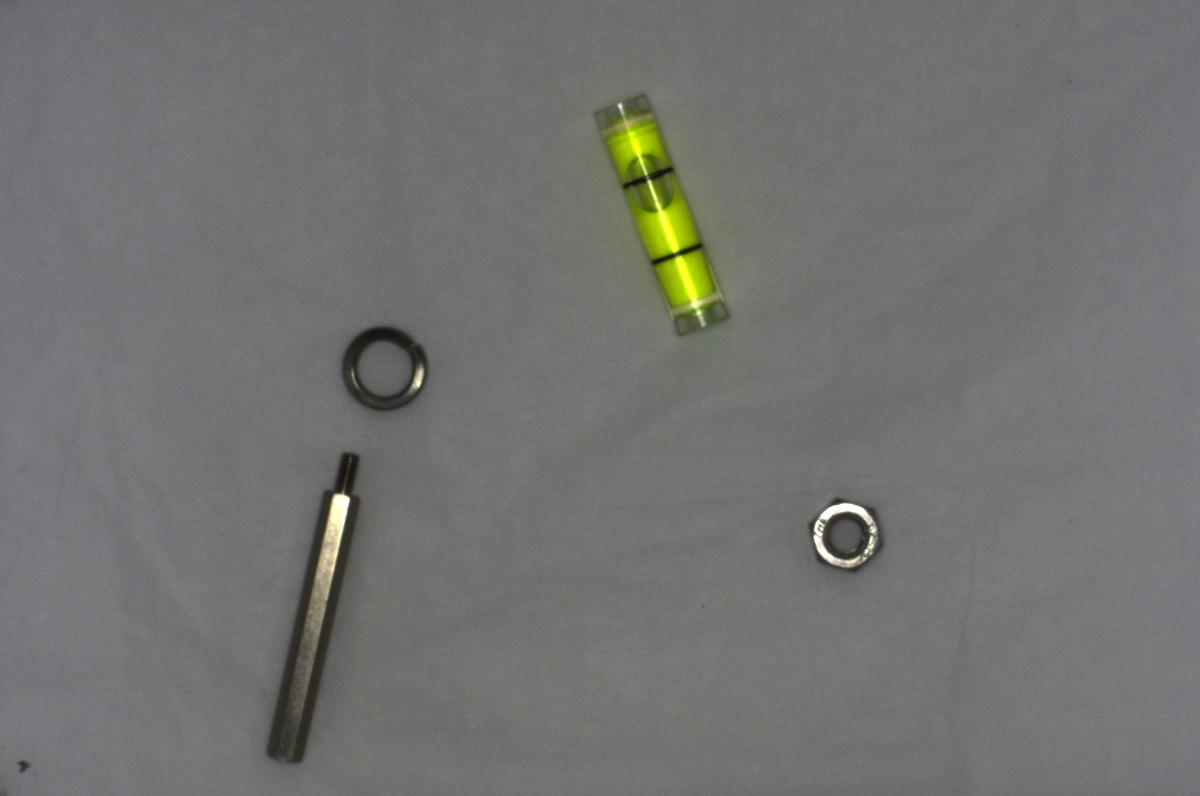Hexagon nut: (794, 488, 887, 580)
Hexagonal steel column: (254, 441, 368, 770)
Horizontal bubble: (591, 82, 742, 335)
Spring washer: (335, 315, 445, 415)
